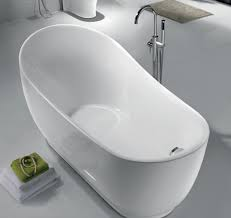bathub: (17, 21, 210, 218)
